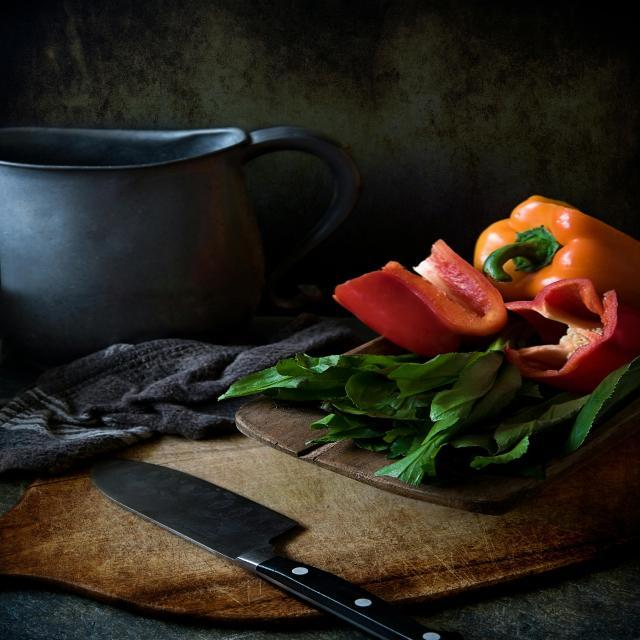Knife: (88, 460, 444, 640)
